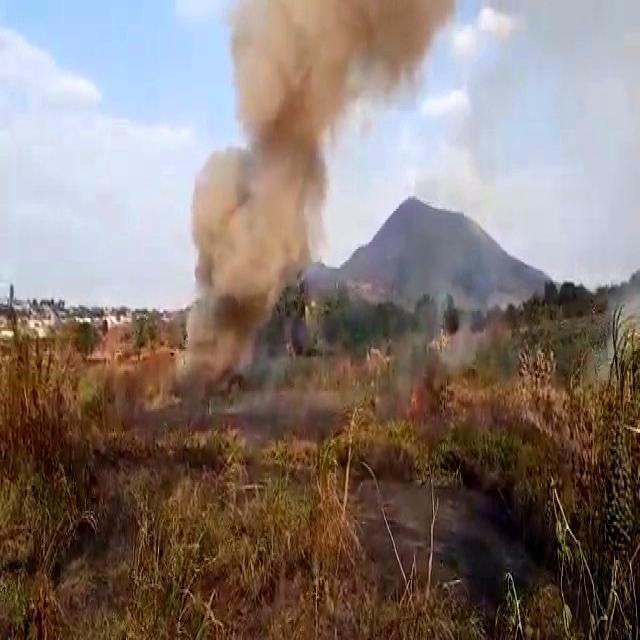Smoke: (182, 0, 392, 360)
